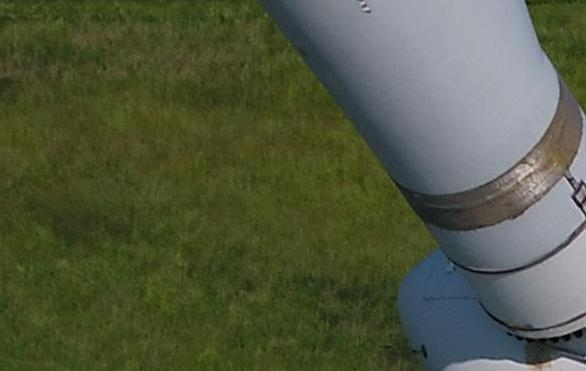damage: (524, 340, 553, 371), (505, 322, 537, 332)
